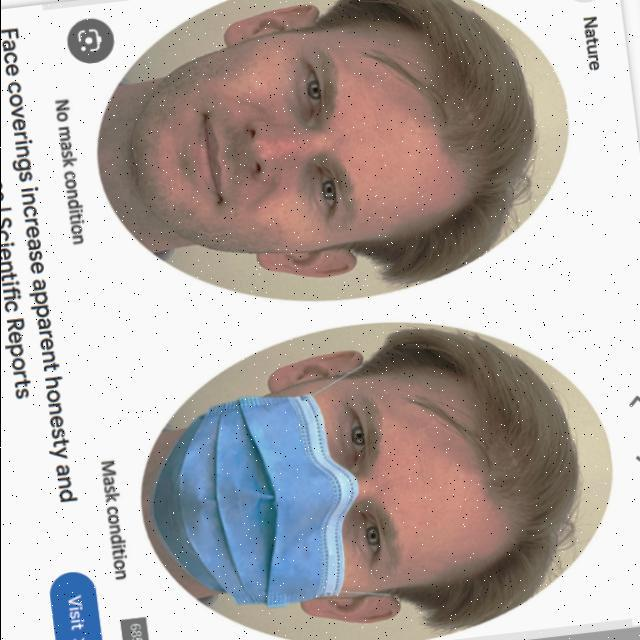face_mask: (196, 355, 486, 621)
face_no_mask: (145, 23, 440, 278)
